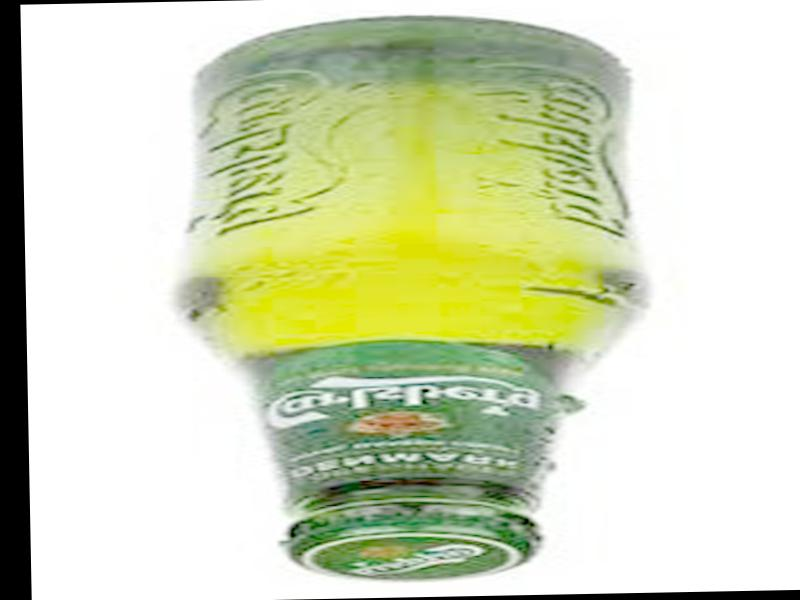Beer: (181, 8, 651, 584)
